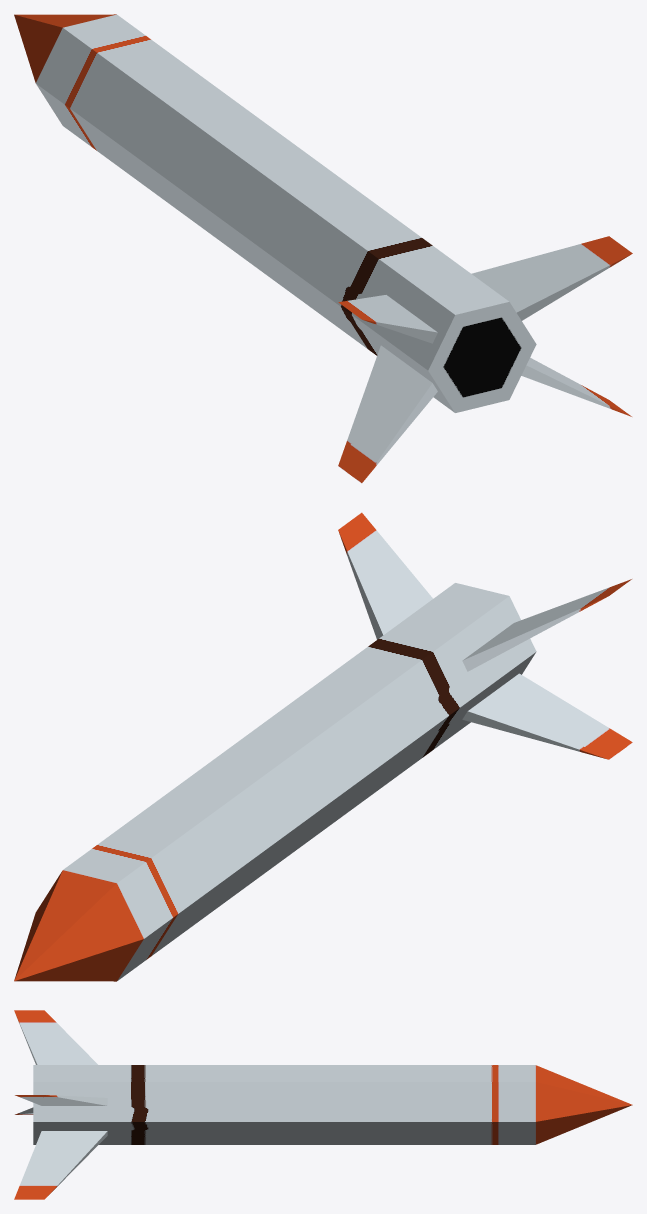
Rendered from missile.dae.
3 views of the same model, one above another, from view 1: azimuth 30°, elevation 25°; view 2: azimuth 150°, elevation 25°; view 3: azimuth 270°, elevation 25° (orthographic). The views are drawn at different scales.
Parts seen in each view (by area): view 1: Fuselage; view 2: Fuselage; view 3: Fuselage.
Boxes of the visible parts, box(x1,y1,x2,y2) form: Fuselage: box(14, 14, 632, 483); Fuselage: box(14, 512, 632, 981); Fuselage: box(14, 1010, 632, 1199).
Size of what is drawn, in the model's own units: 0.2812 by 0.8688 by 0.1624.
Materials: 1 (1 with a texture image).
